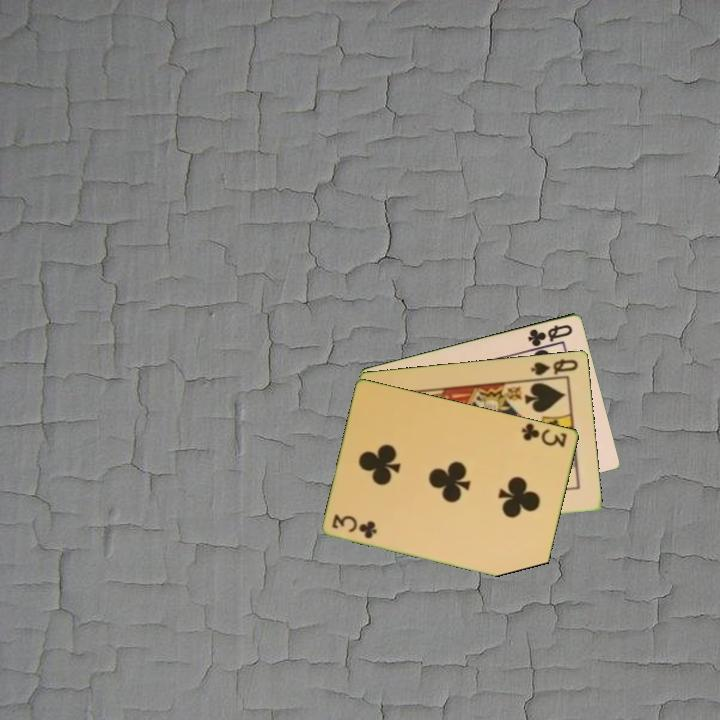3c: (519, 419, 570, 450), (329, 511, 380, 541)
Qc: (524, 320, 576, 349)
Qs: (528, 355, 581, 378)
